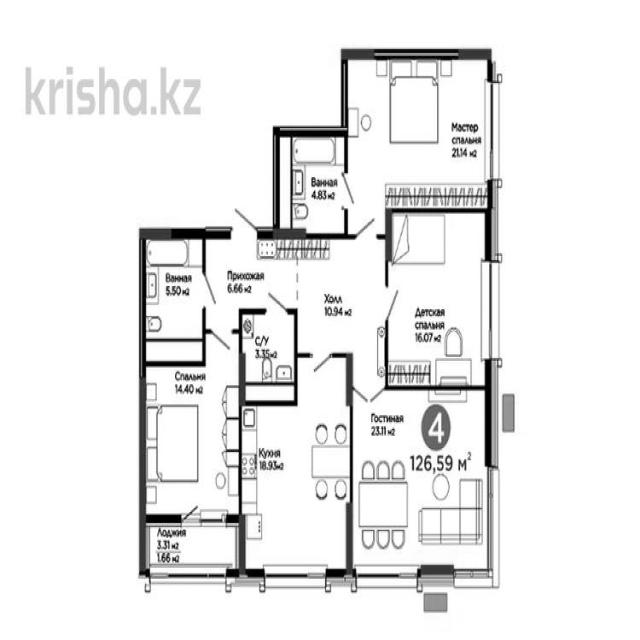balcony: (143, 522, 240, 574)
bathroom: (140, 237, 205, 362), (292, 132, 347, 238), (238, 314, 296, 404)
hallway: (207, 234, 389, 390)
kitchen: (243, 353, 351, 572)
living_room: (346, 57, 493, 238), (351, 389, 490, 578), (143, 330, 244, 519), (388, 212, 489, 386)
